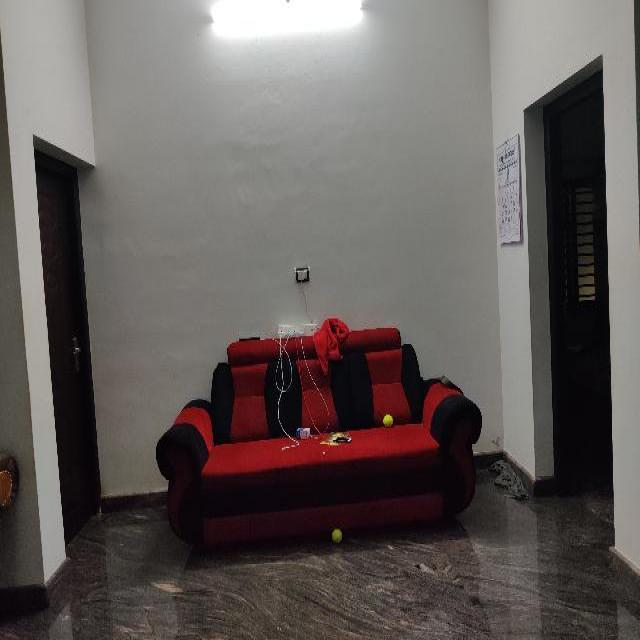tennis-ball: (383, 413, 393, 427), (332, 527, 342, 541)
